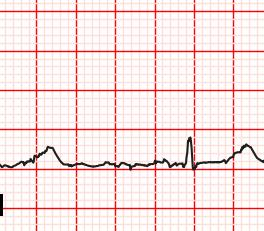Poor R Progression: (182, 133, 197, 170)
